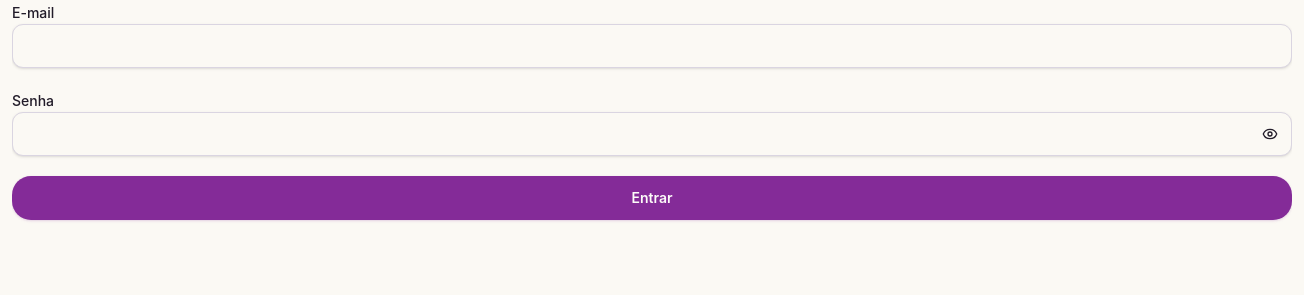
Test case: LoginForm › renders the fields and displays validation errors
This screenshot has width=1304, height=295.
Expected: the password field labelled "Senha" is shown, [12,112,1292,156]
Type "invalid" into the field labelled "E-mail" at (652, 46), box [12,24,1292,68]
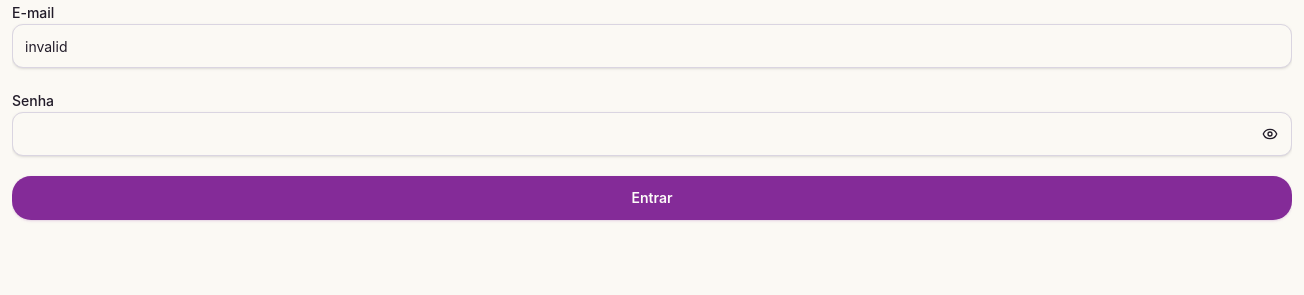
Click the button "Entrar" at (652, 198), box [12,176,1292,220]
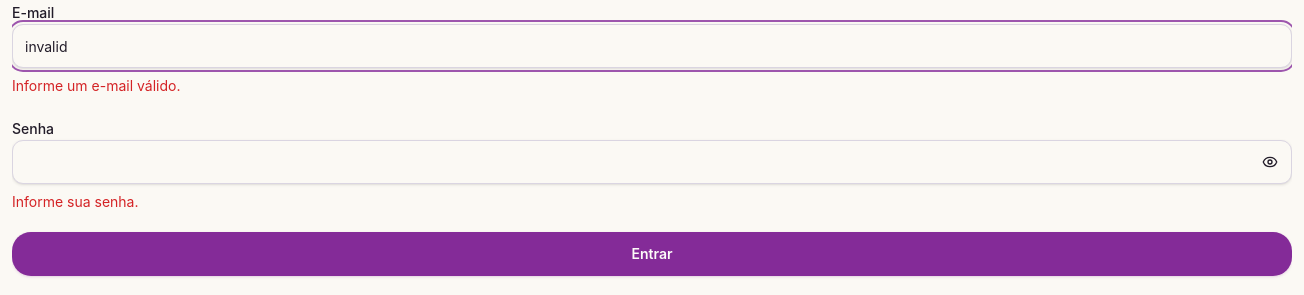
Expected: the text "Informe um e-mail válido." is shown, [12,77,180,94]
Expected: the text "Informe sua senha." is shown, [12,193,138,210]
